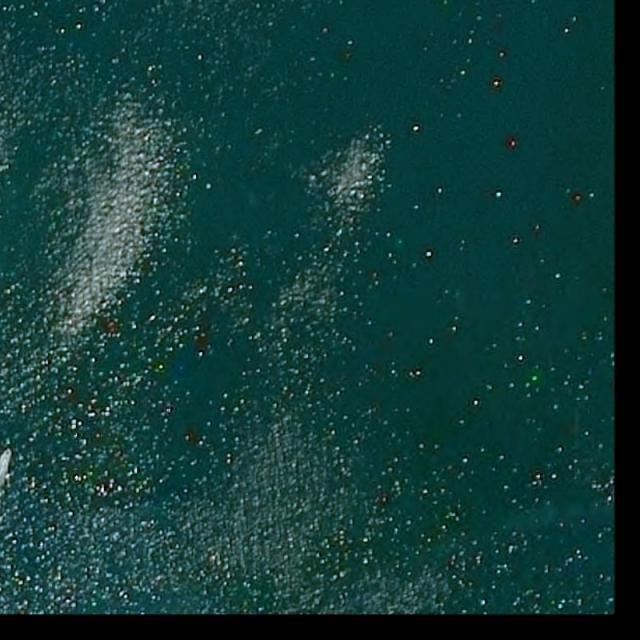ship: (5, 447, 12, 457)
